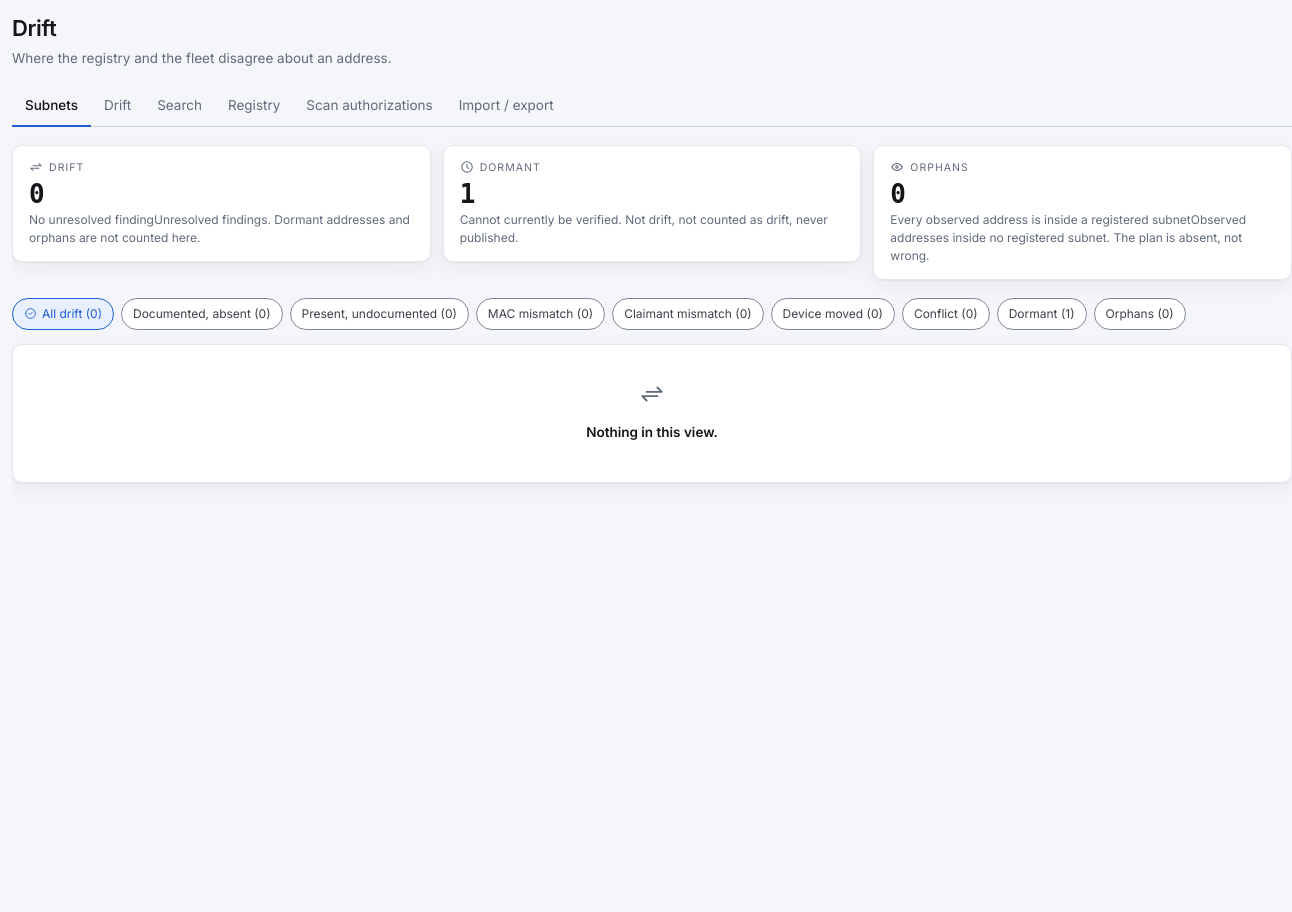
Test: the drift page › says which gate failed on a dormant row, and still counts it as no drift
The width and height of the screenshot is (1292, 912).
Expected: the 1st text "0" is shown, [29,179,44,209]
Click the button "Dormant (1)" at x=1042, y=314, box [997,298,1086,330]
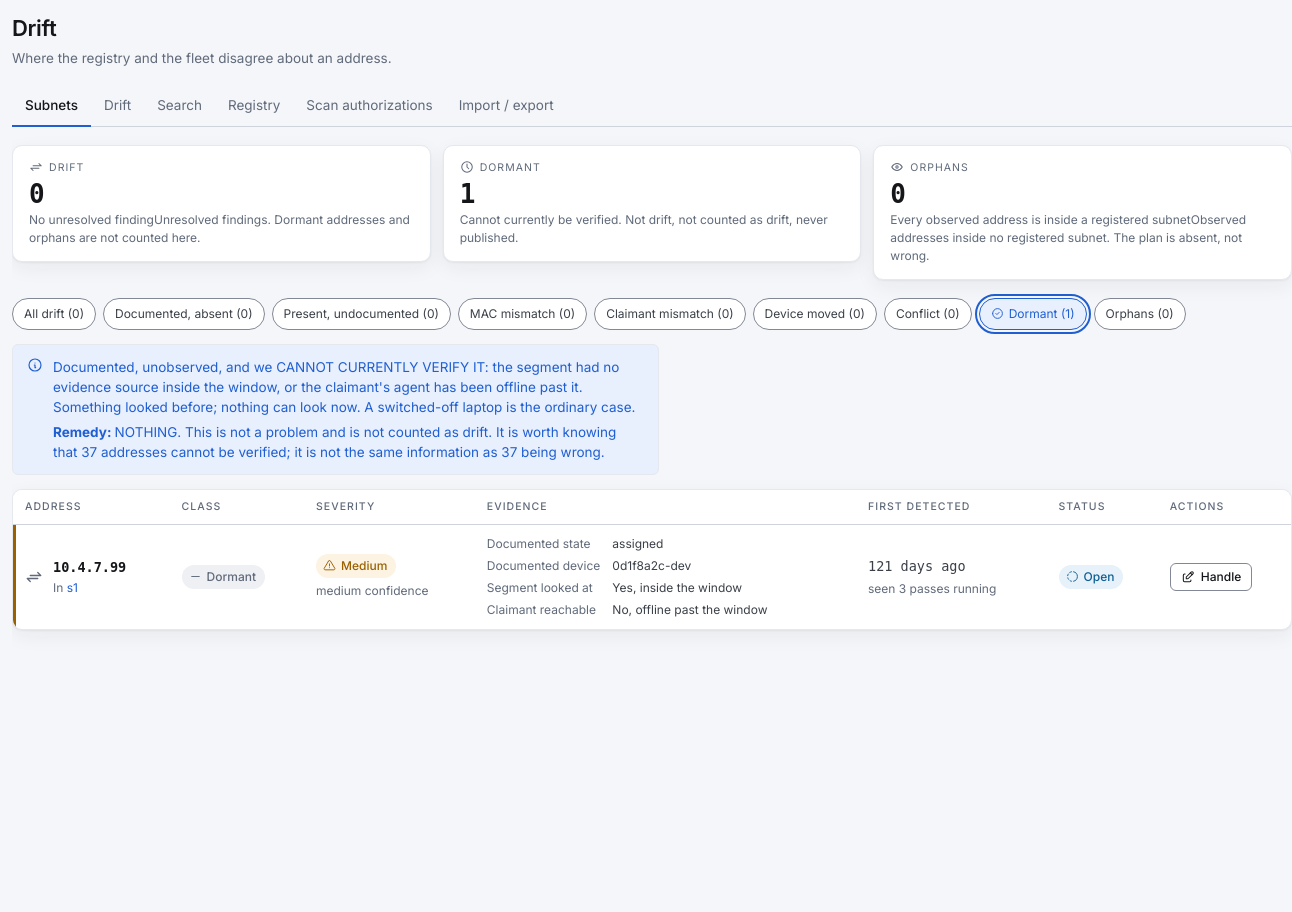
Expected: the text "No, offline past the window" is shown, [612,602,768,617]
Expected: the text "Yes, inside the window" is shown, [612,580,742,595]
